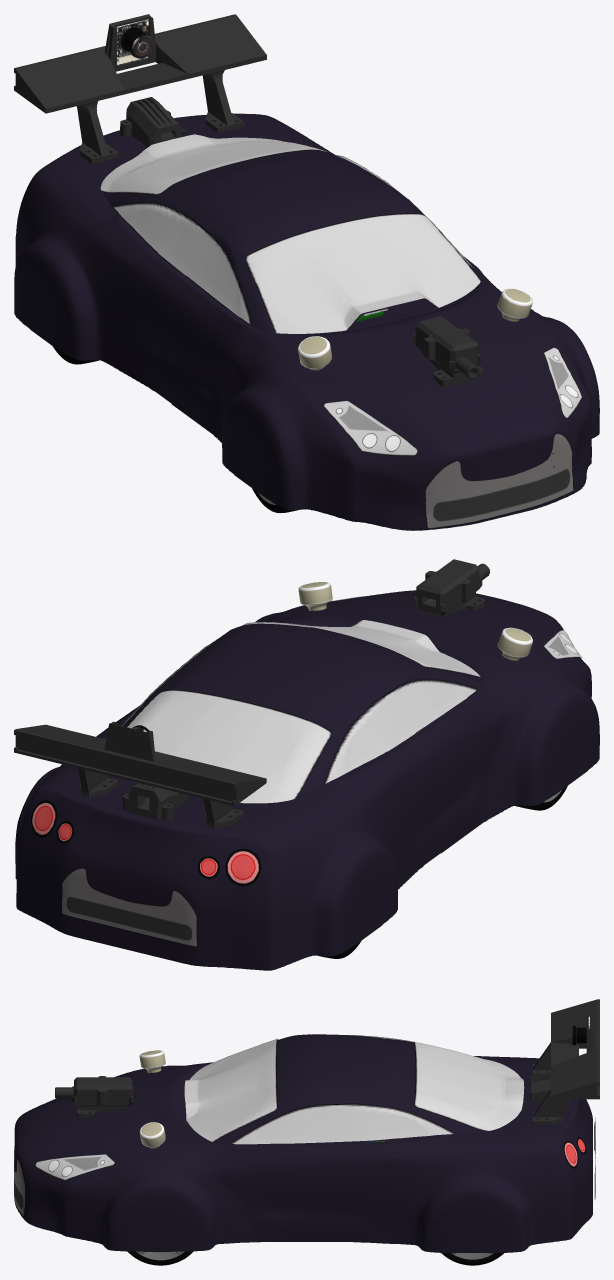
Rendered from car1.glb.
3 views of the same model, one above another, from view 1: azimuth 30°, elevation 25°; view 2: azimuth 150°, elevation 25°; view 3: azimuth 270°, elevation 25° (orthographic). The views are drawn at different scales.
Parts seen in each view (by area): view 1: object 4; view 2: object 4; view 3: object 4.
Boxes of the visible parts, <box> form: object 4: <box>14,14,599,530</box>; object 4: <box>14,559,599,970</box>; object 4: <box>14,999,599,1265</box>.
Bounding box in the file's own units: 0.2388 × 0.1742 × 0.4797.
Materials: 47 (6 with a texture image).
